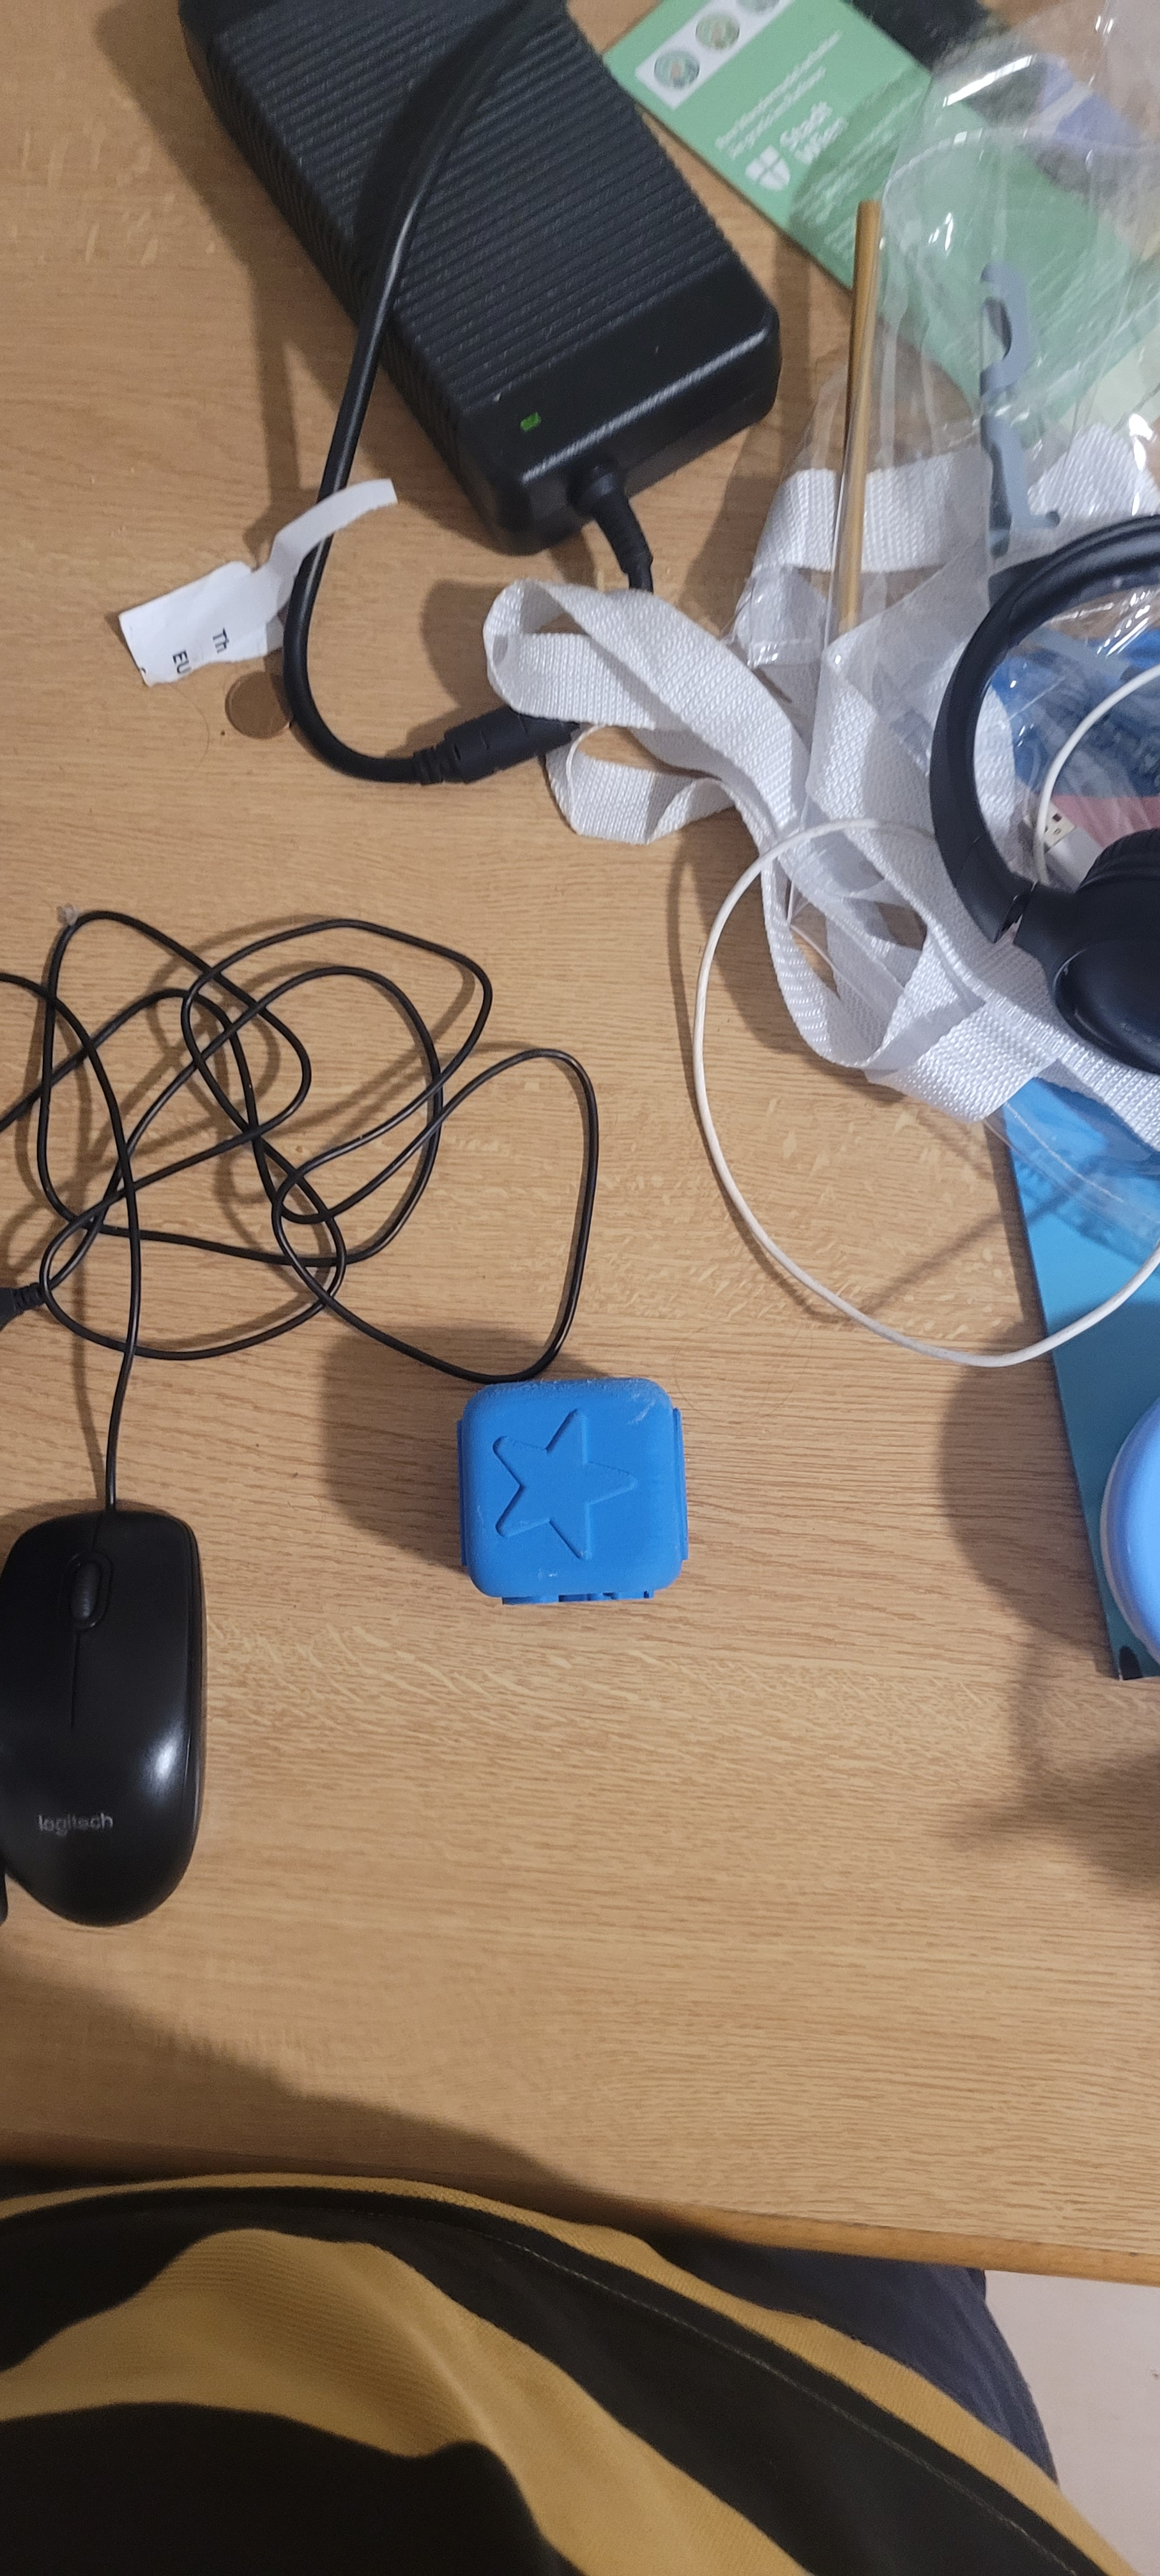Star: (496, 1410, 642, 1569)
